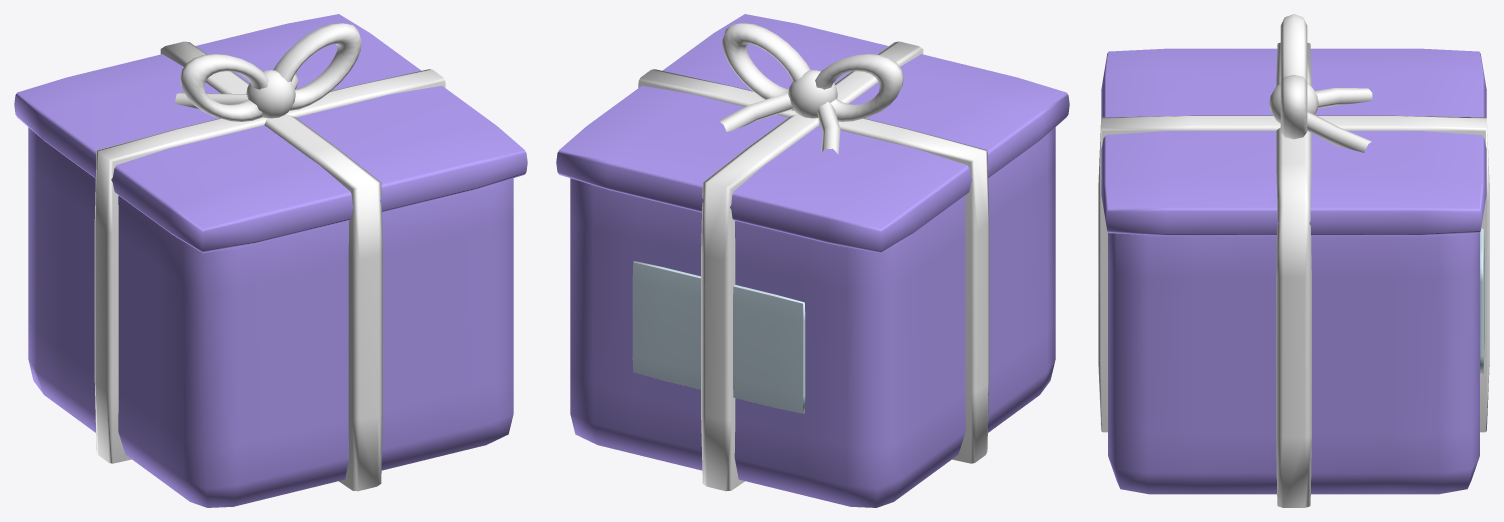
The model's file is CakeBox.glb.
3 renders of one model, left to right at view 1: azimuth 30°, elevation 25°; view 2: azimuth 150°, elevation 25°; view 3: azimuth 270°, elevation 25°, orthographic.
Visible parts, largest first — view 1: Box, Stripe; view 2: Box, Stripe, Window; view 3: Box, Stripe, Window.
Boxes of the visible parts, box(x1,y1,x2,y2) form: Box: box(14, 14, 527, 507); Stripe: box(94, 23, 445, 491); Box: box(556, 14, 1069, 507); Stripe: box(638, 23, 989, 491); Window: box(632, 261, 805, 413); Box: box(1101, 48, 1486, 494); Stripe: box(1098, 14, 1489, 507); Window: box(1480, 228, 1484, 373).
Size of the model in its own units: 4.74 by 5.07 by 4.74.
